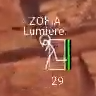hacks_1: (23, 16, 73, 85)
